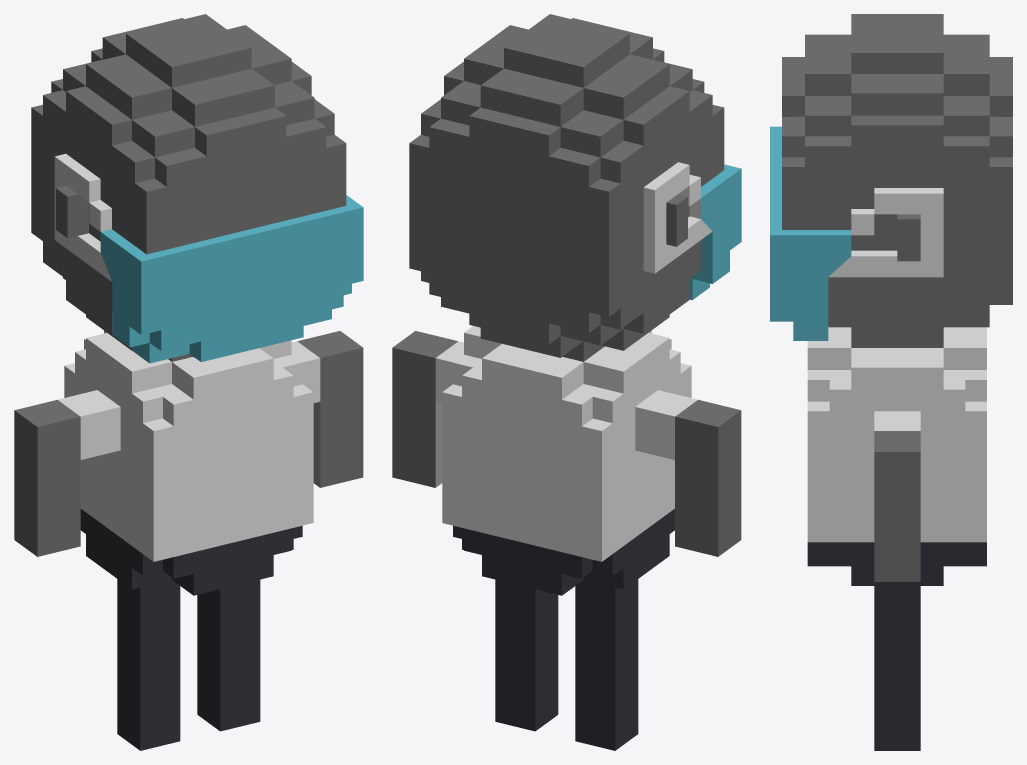
File: Customer2_Model.fbx
The picture shows the model from 3 angles, left to right: view 1: azimuth 30°, elevation 25°; view 2: azimuth 150°, elevation 25°; view 3: azimuth 270°, elevation 25°; orthographic projection.
Parts seen in each view (by area): view 1: Body_C2, Mask_C2, Leg_Right_C2, Arm_Right_C2, Leg_Left_C2, Arm_Left_C2; view 2: Body_C2, Leg_Right_C2, Arm_Right_C2, Leg_Left_C2, Mask_C2, Arm_Left_C2; view 3: Body_C2, Mask_C2, Leg_Left_C2, Arm_Left_C2.
Part boxes in pixels (x1,y1,x2,y2): Body_C2: (31,14,346,595); Mask_C2: (54,153,363,363); Leg_Right_C2: (117,579,180,750); Arm_Right_C2: (14,400,80,556); Leg_Left_C2: (197,579,260,731); Arm_Left_C2: (297,331,363,487); Body_C2: (409,14,724,595); Leg_Right_C2: (575,579,638,750); Arm_Right_C2: (675,399,741,556); Leg_Left_C2: (495,579,558,731); Mask_C2: (643,162,741,299); Arm_Left_C2: (392,331,457,487); Body_C2: (782,14,1012,585); Mask_C2: (770,126,943,340); Leg_Left_C2: (874,586,920,750); Arm_Left_C2: (874,431,920,581).
Size of the model in its own units: 1.63 by 3.29 by 1.05.
